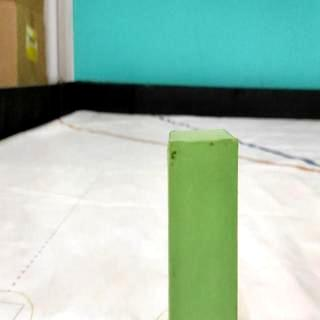greenbox: (167, 130, 240, 320)
